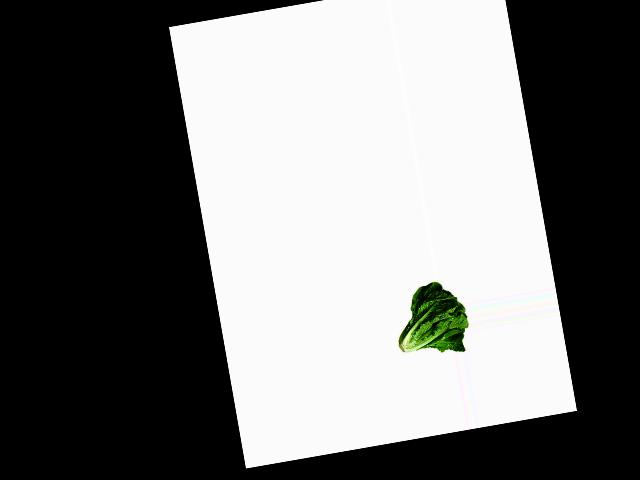lettuce: (385, 276, 473, 361)
